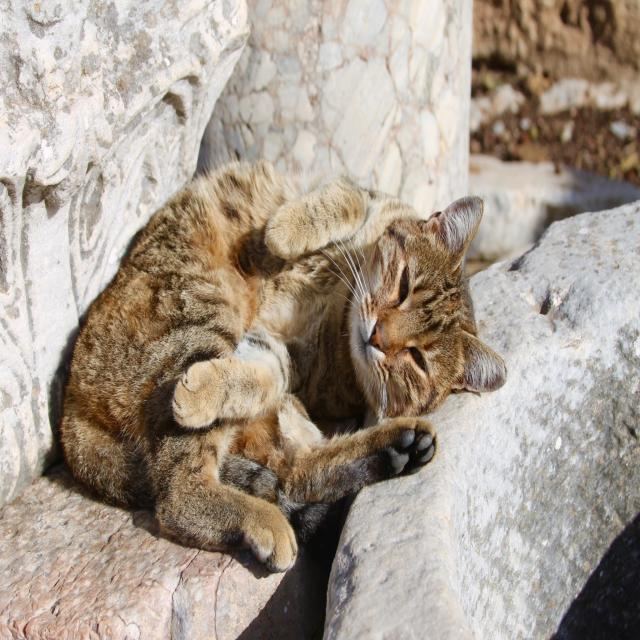cat: (61, 161, 505, 572)
